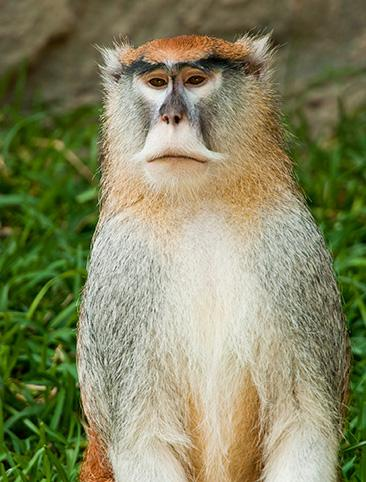monkey: (76, 31, 352, 482)
